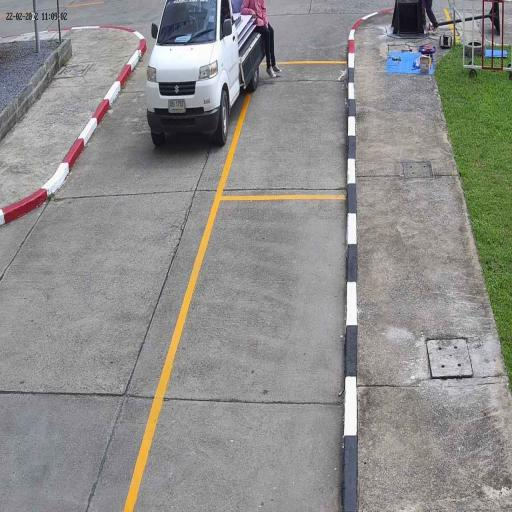car: (143, 0, 271, 148)
